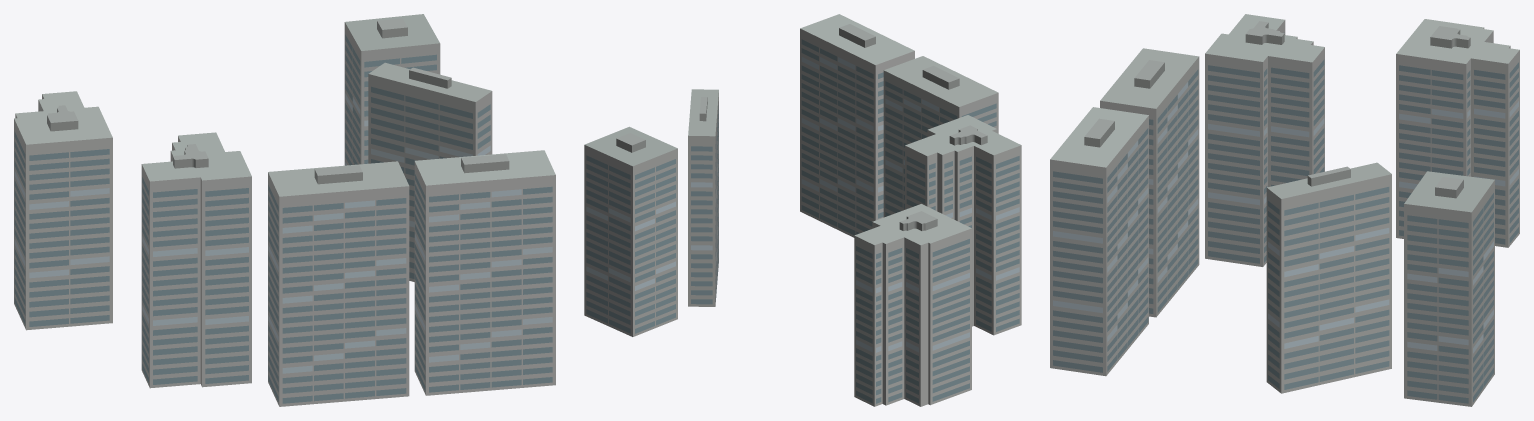
Rendered from apt-a15072201.glb.
3 views of the same model, side by side, from view 1: azimuth 30°, elevation 25°; view 2: azimuth 150°, elevation 25°; view 3: azimuth 270°, elevation 25° (orthographic). The views are drawn at different scales.
Visible parts, largest first — view 1: apt-a15072201; view 2: apt-a15072201; view 3: apt-a15072201.
Boxes of the visible parts, bbox=[...] form: apt-a15072201: bbox=[14, 14, 555, 406]; apt-a15072201: bbox=[584, 14, 1021, 406]; apt-a15072201: bbox=[1050, 14, 1519, 406].
Bounding box in the file's own units: 125 × 62 × 122.
